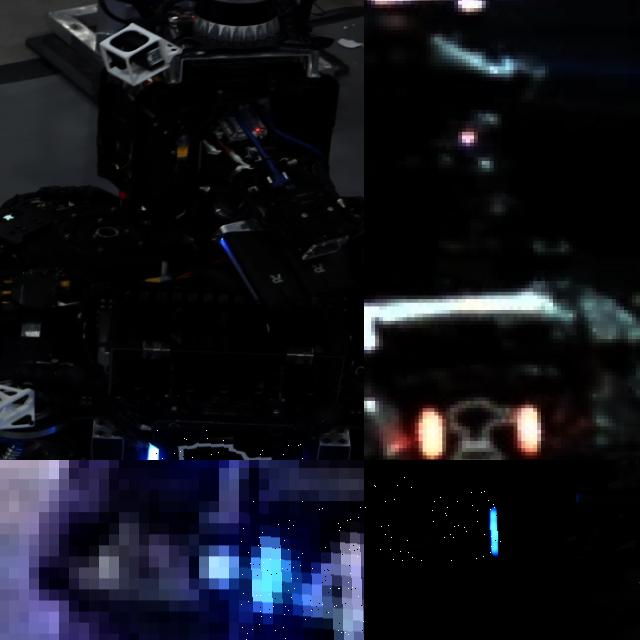B4: (239, 501, 364, 640)
Bs: (364, 477, 501, 560), (142, 429, 303, 460)
Rs: (422, 397, 537, 460)
